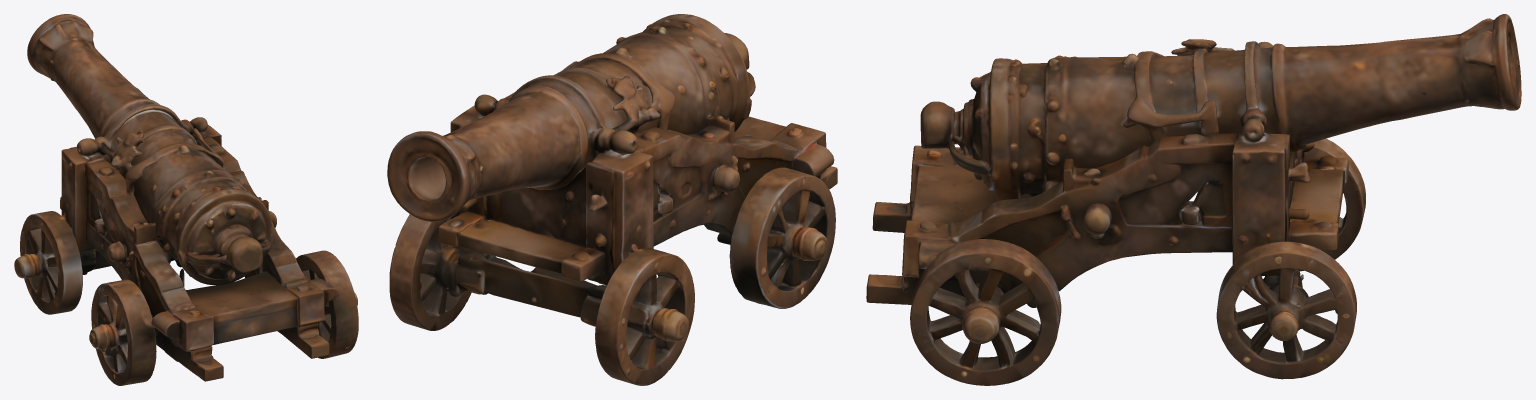
File: prop-cannon.glb
The picture shows the model from 3 angles, left to right: view 1: azimuth 30°, elevation 25°; view 2: azimuth 150°, elevation 25°; view 3: azimuth 270°, elevation 25°; orthographic projection. The views are drawn at different scales.
Visible parts, largest first — view 1: tripo_node_96406520-e27a-4a9d-a368-afad9bddd001; view 2: tripo_node_96406520-e27a-4a9d-a368-afad9bddd001; view 3: tripo_node_96406520-e27a-4a9d-a368-afad9bddd001.
Boxes of the visible parts, left/top/right/bottom form: tripo_node_96406520-e27a-4a9d-a368-afad9bddd001: left=14, top=14, right=358, bottom=385; tripo_node_96406520-e27a-4a9d-a368-afad9bddd001: left=387, top=14, right=837, bottom=385; tripo_node_96406520-e27a-4a9d-a368-afad9bddd001: left=866, top=14, right=1521, bottom=385.
Size of the model in its own units: 1.7 by 1.5 by 2.87.
1 material, 1 textured.
